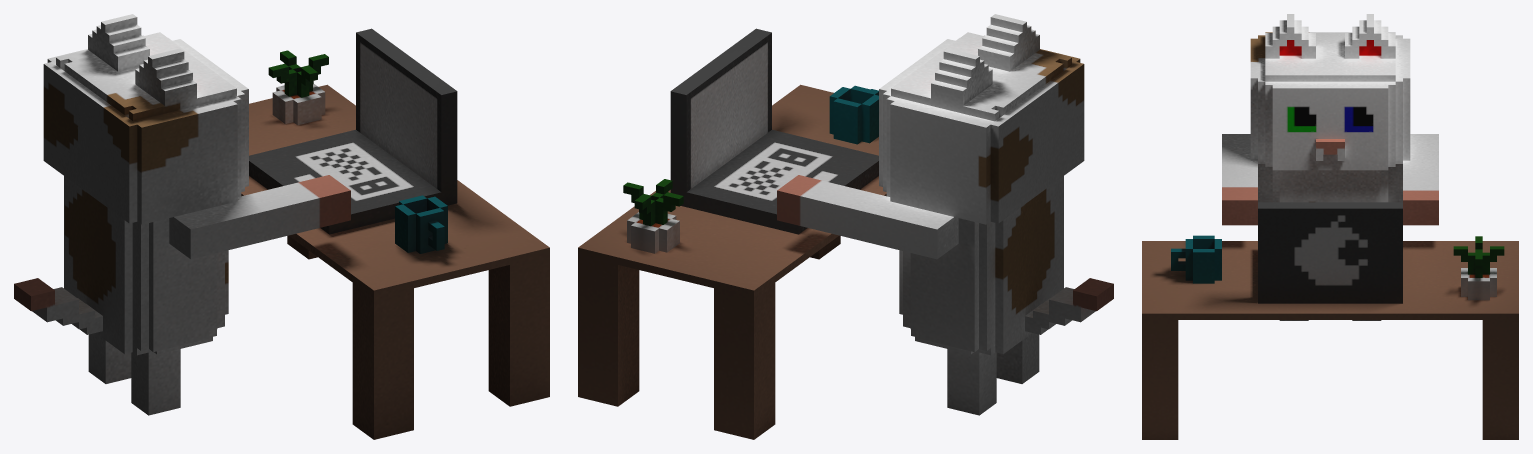
Rendered from cat-baked.glb.
3 views of the same model, side by side, from view 1: azimuth 30°, elevation 25°; view 2: azimuth 150°, elevation 25°; view 3: azimuth 270°, elevation 25° (orthographic). The views are drawn at different scales.
Parts seen in each view (by area): view 1: cat; view 2: cat; view 3: cat.
Part boxes in pixels (left/top/right/bottom): cat: left=14, top=14, right=549, bottom=439; cat: left=578, top=14, right=1113, bottom=439; cat: left=1142, top=14, right=1518, bottom=439.
Bounding box in the file's own units: 5.83 × 4.7 × 5.4.
1 material, 1 textured.
